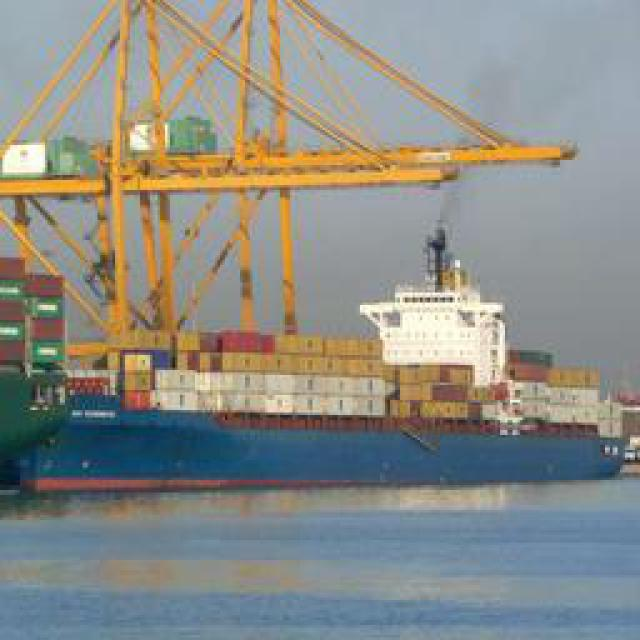Ship: (1, 6, 599, 524)
